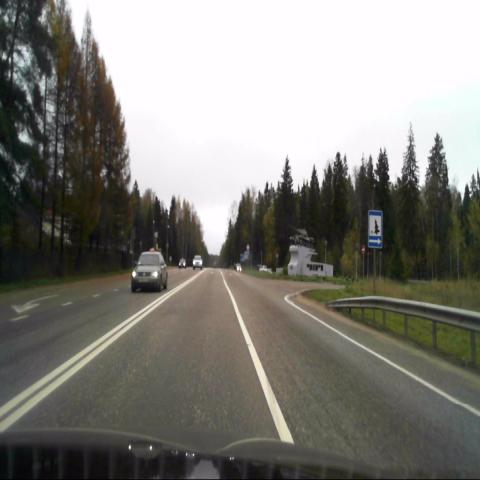7_11: (369, 211, 382, 248)
